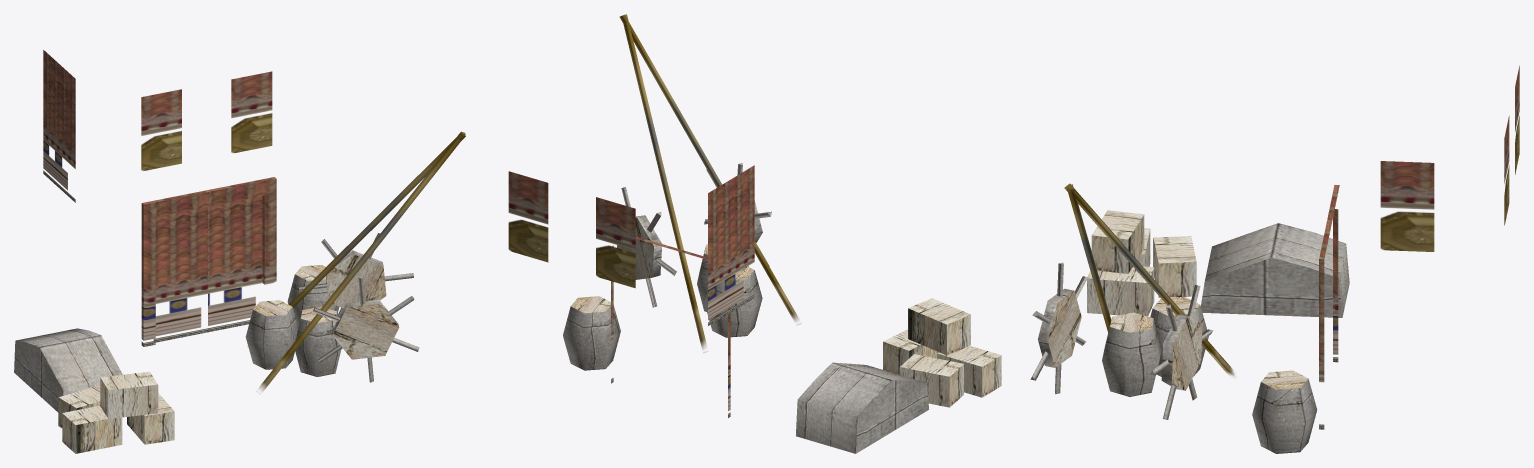
The model's file is rome_storehouse_props_1.glb.
3 views of the same model, side by side, from view 1: azimuth 30°, elevation 25°; view 2: azimuth 150°, elevation 25°; view 3: azimuth 270°, elevation 25° (orthographic). The views are drawn at different scales.
Parts seen in each view (by area): view 1: Object08-Pivot; view 2: Object08-Pivot; view 3: Object08-Pivot.
Part boxes in pixels (x1=…): Object08-Pivot: x1=14, y1=50, x2=465, y2=453; Object08-Pivot: x1=508, y1=14, x2=1001, y2=453; Object08-Pivot: x1=1030, y1=65, x2=1519, y2=453.
Bounding box in the file's own units: 13.58 × 9.16 × 12.85.
Materials: 1 (1 with a texture image).
